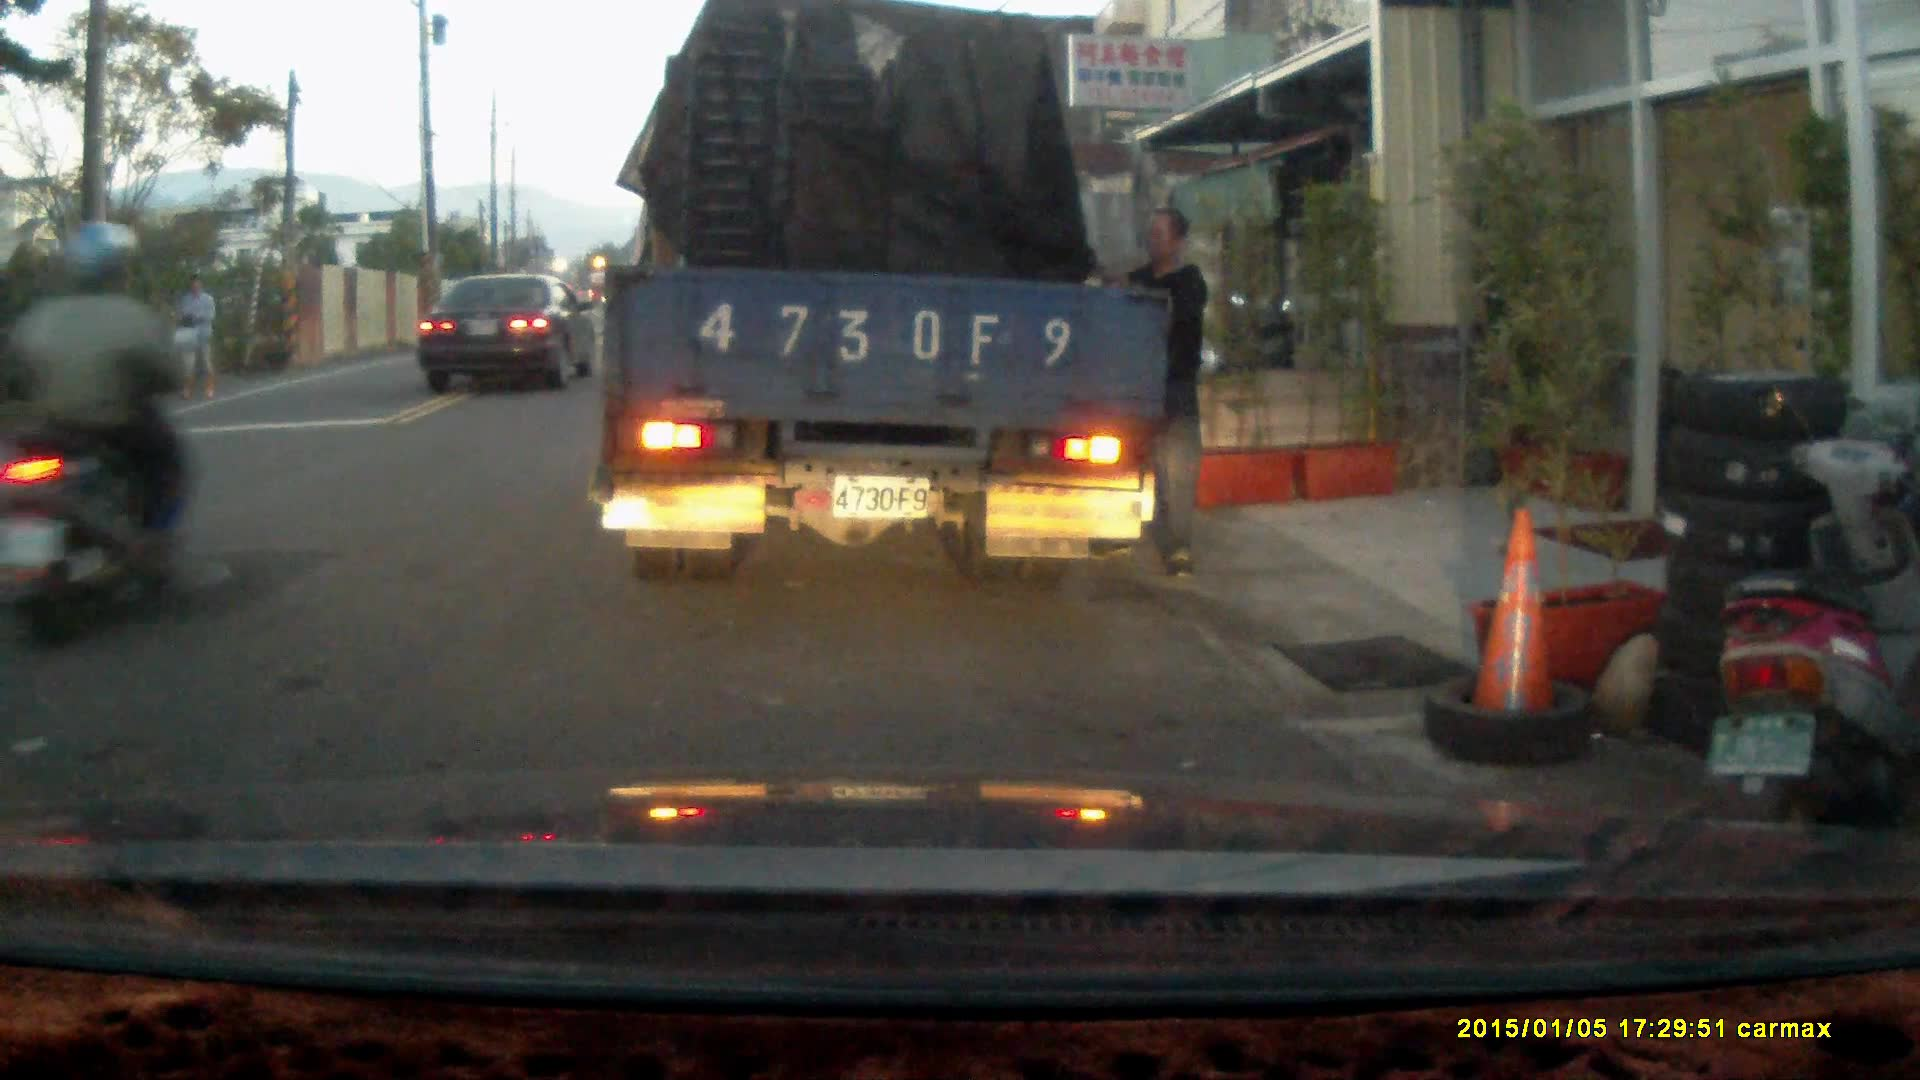pedestrian: (1085, 205, 1212, 580), (174, 273, 220, 405)
rider: (10, 217, 194, 659)
vehicle: (602, 23, 1172, 572), (422, 270, 597, 396)
